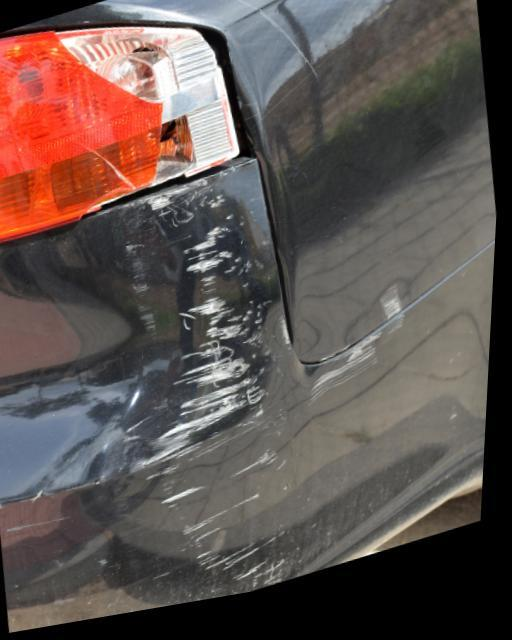lamp broken: (0, 29, 243, 243)
scratch: (126, 183, 416, 607)
